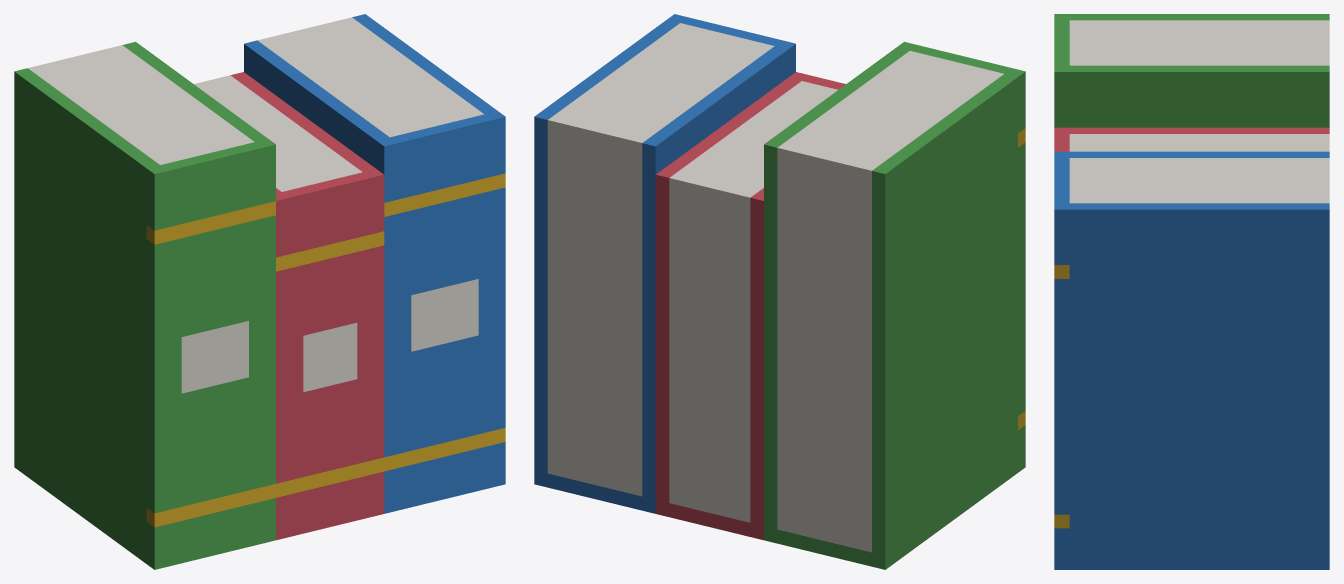
The model's file is books.glb.
3 renders of one model, left to right at view 1: azimuth 30°, elevation 25°; view 2: azimuth 150°, elevation 25°; view 3: azimuth 270°, elevation 25°, orthographic. The views are drawn at different scales.
Visible parts, largest first — view 1: prop; view 2: prop; view 3: prop.
Part boxes in pixels (<box>): prop: <box>14,14,505,569</box>; prop: <box>534,14,1025,569</box>; prop: <box>1054,14,1329,569</box>.
Size of the model in its own units: 13.93 by 15 by 9.64.
